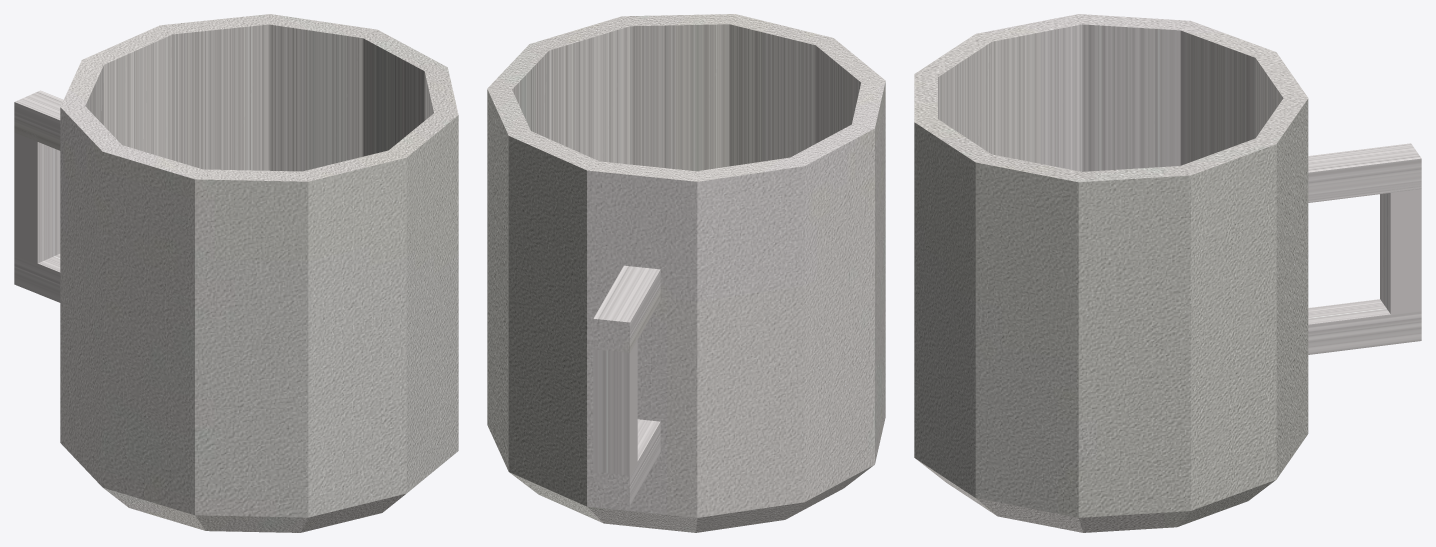
Rendered from кружка2.fbx.
3 views of the same model, side by side, from view 1: azimuth 30°, elevation 25°; view 2: azimuth 150°, elevation 25°; view 3: azimuth 270°, elevation 25° (orthographic).
Parts seen in each view (by area): view 1: Cylinder; view 2: Cylinder; view 3: Cylinder.
Boxes of the visible parts, x1,y1,x2,y2 form: Cylinder: (14,14,458,532); Cylinder: (487,14,885,532); Cylinder: (914,14,1421,532).
Bounding box in the file's own units: 198 × 200 × 252.
